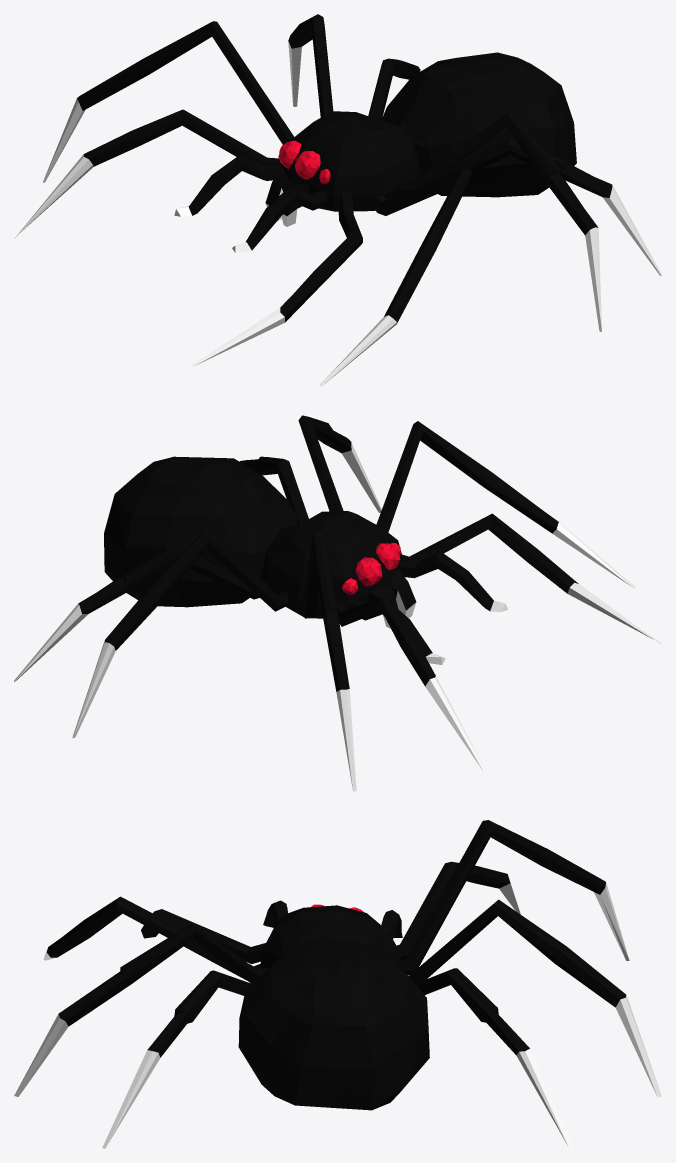
Rendered from spiderIdle11.obj.
3 renders of one model, top to bottom at view 1: azimuth 30°, elevation 25°; view 2: azimuth 150°, elevation 25°; view 3: azimuth 270°, elevation 25°, orthographic. The views are drawn at different scales.
Parts seen in each view (by area): view 1: Cube.003_Cube.004; view 2: Cube.003_Cube.004; view 3: Cube.003_Cube.004.
Boxes of the visible parts, left/top/right/bottom form: Cube.003_Cube.004: left=14, top=14, right=661, bottom=386; Cube.003_Cube.004: left=14, top=415, right=661, bottom=791; Cube.003_Cube.004: left=14, top=820, right=661, bottom=1148.
Size of the model in its own units: 29.32 by 11.38 by 34.53.
